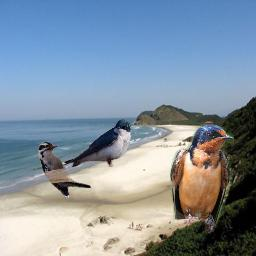Swallow: (170, 124, 234, 233), (63, 119, 132, 167)
Woodpecker: (38, 142, 91, 198)
